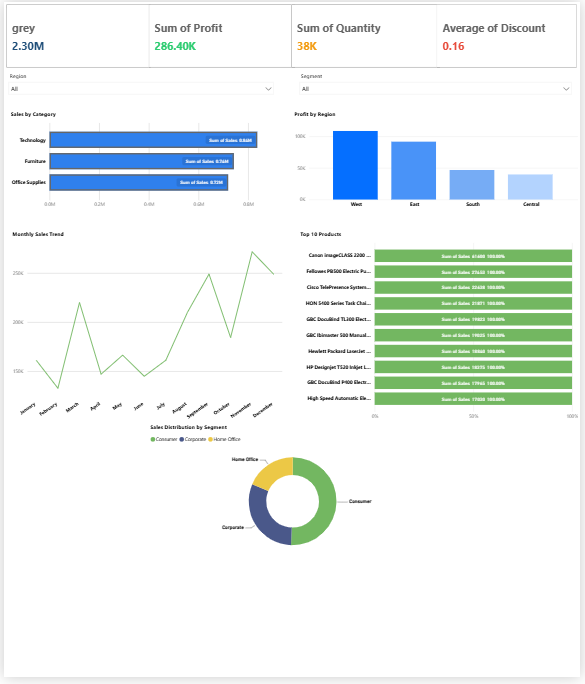

What the dashboard file says about the page in this screenshot:
{"tool":"powerbi","page":{"name":"Page 1","canvas":[1280,1500],"ordinal":0},"visuals":[{"type":"cardVisual","fields":{"Data":["Sum(Sample - Superstore.Sales)"]},"box":[0,0,331.7,150],"z":1},{"type":"cardVisual","fields":{"Data":["Sum(Sample - Superstore.Profit)"]},"box":[315.6,0,335,150],"z":2},{"type":"cardVisual","fields":{"Data":["Sum(Sample - Superstore.Quantity)"]},"box":[634.4,0,340,150],"z":3},{"type":"cardVisual","fields":{"Data":["Avg(Sample - Superstore.Discount)"]},"box":[958.3,0,321.7,150],"z":4},{"type":"clusteredBarChart","title":" Sales by Category","fields":{"Category":["Sample - Superstore.Category"],"Y":["Sum(Sample - Superstore.Sales)"]},"box":[8.3,240,613.3,226.7],"z":5},{"type":"clusteredColumnChart","title":" Profit by Region","fields":{"Category":["Sample - Superstore.Region"],"Y":["Sum(Sample - Superstore.Profit)"]},"box":[640,240,640,226.7],"z":6},{"type":"donutChart","title":"Sales Distribution by Segment","fields":{"Category":["Sample - Superstore.Segment"],"Y":["Sum(Sample - Superstore.Sales)"]},"box":[318.9,937.8,642.2,302.2],"z":7},{"type":"hundredPercentStackedBarChart","title":"Top 10 Products","fields":{"Category":["Sample - Superstore.Product Name"],"Y":["Sum(Sample - Superstore.Sales)"]},"box":[653.3,506.7,626.7,430],"z":8},{"type":"lineChart","title":"Monthly Sales Trend","fields":{"Y":["Sum(Sample - Superstore.Sales)"],"Category":["Sample - Superstore.Order Date.Variation.Date Hierarchy.Year","Sample - Superstore.Order Date.Variation.Date Hierarchy.Month"]},"box":[11.7,506.7,610,430],"z":10},{"type":"slicer","fields":{"Values":["Sample - Superstore.Region"]},"box":[0,150,610,68.3],"z":11},{"type":"slicer","fields":{"Values":["Sample - Superstore.Segment"]},"box":[645,150,625,70],"z":12}]}

Visuals, with their boxes in screenshot pixels (x1, y1, x2, y2), scaled from the page's 1280x1500 canvas onto the 585x684 screenshot:
cardVisual - Sum(Sample - Superstore.Sales): region(0, 0, 152, 68)
cardVisual - Sum(Sample - Superstore.Profit): region(144, 0, 297, 68)
cardVisual - Sum(Sample - Superstore.Quantity): region(290, 0, 445, 68)
cardVisual - Avg(Sample - Superstore.Discount): region(438, 0, 584, 68)
" Sales by Category" clusteredBarChart: region(4, 109, 284, 213)
" Profit by Region" clusteredColumnChart: region(292, 109, 584, 213)
"Sales Distribution by Segment" donutChart: region(146, 428, 439, 565)
"Top 10 Products" hundredPercentStackedBarChart: region(299, 231, 584, 427)
"Monthly Sales Trend" lineChart: region(5, 231, 284, 427)
slicer - Sample - Superstore.Region: region(0, 68, 279, 100)
slicer - Sample - Superstore.Segment: region(295, 68, 580, 100)
